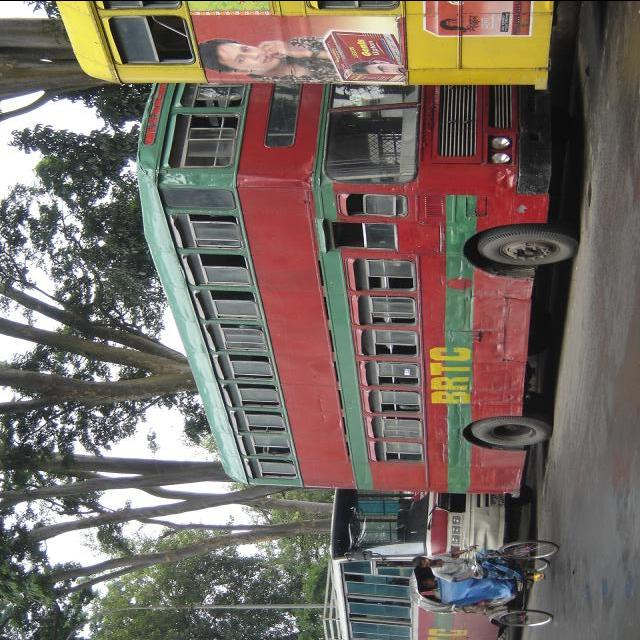bus: (135, 83, 583, 499), (331, 489, 507, 640)
